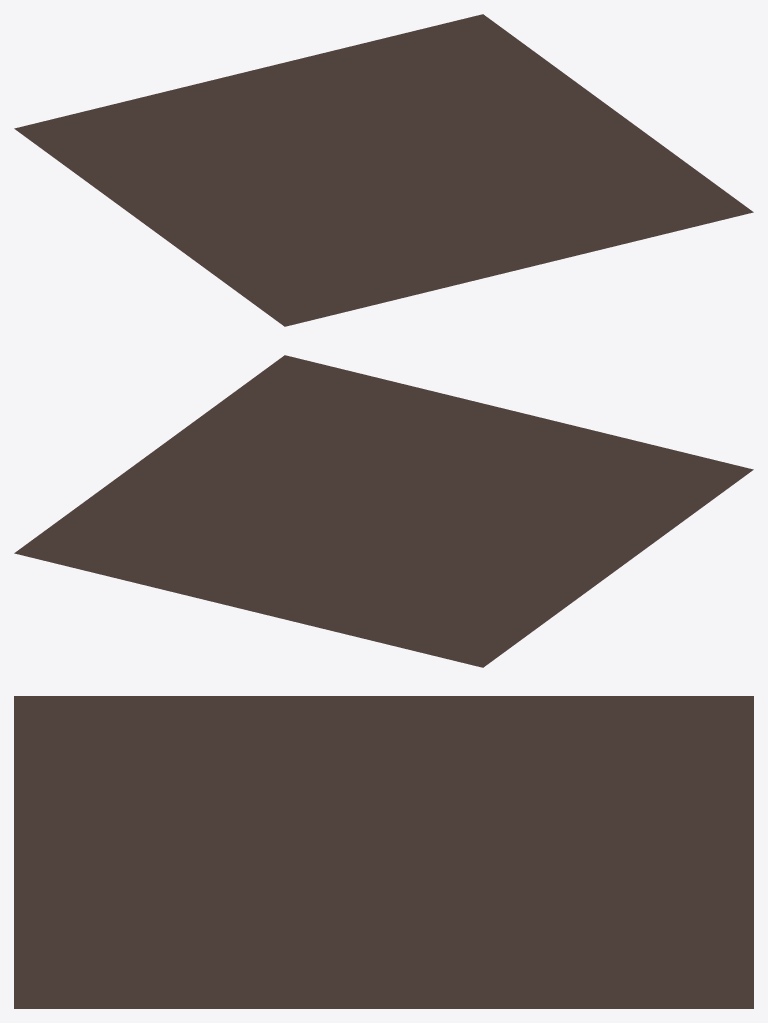
Rendered from crossing-8-4.glb.
3 renders of one model, top to bottom at view 1: azimuth 30°, elevation 25°; view 2: azimuth 150°, elevation 25°; view 3: azimuth 270°, elevation 25°, orthographic. The views are drawn at different scales.
Parts seen in each view (by area): view 1: crossing-8-4; view 2: crossing-8-4; view 3: crossing-8-4.
Boxes of the visible parts, x1,y1,x2,y2 form: crossing-8-4: (14, 14, 753, 326); crossing-8-4: (14, 355, 753, 667); crossing-8-4: (14, 696, 753, 1008).
Size of the model in its own units: 100 by 0 by 100.
